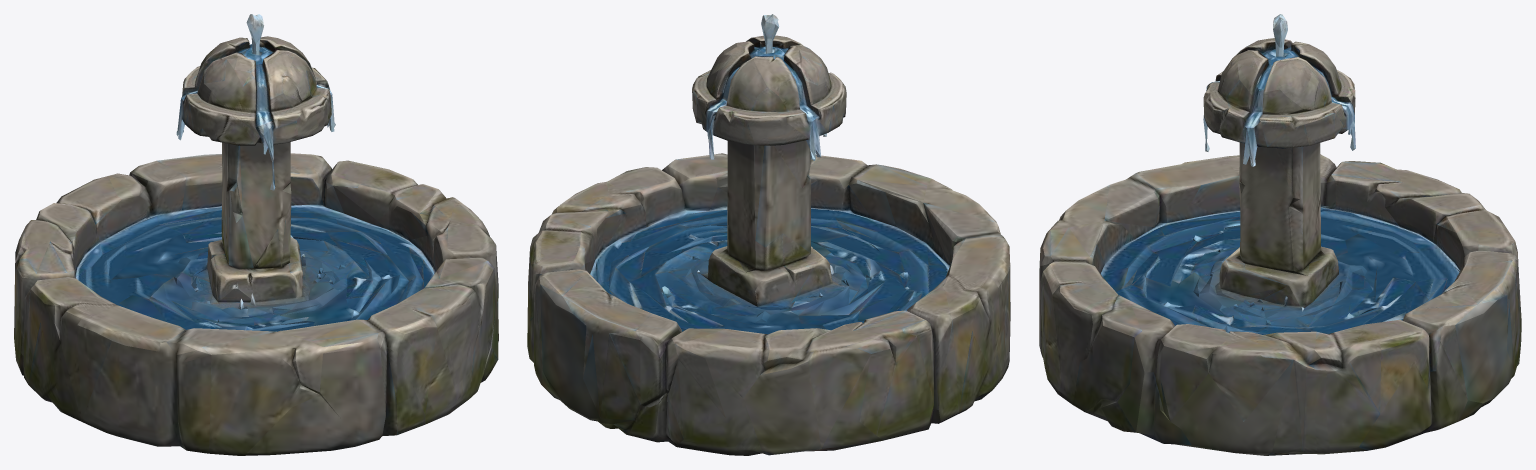
Rendered from fountain_3d.glb.
3 views of the same model, side by side, from view 1: azimuth 30°, elevation 25°; view 2: azimuth 150°, elevation 25°; view 3: azimuth 270°, elevation 25° (orthographic).
Parts seen in each view (by area): view 1: Mesh_0; view 2: Mesh_0; view 3: Mesh_0.
Part boxes in pixels (x1,y1,x2,y2): Mesh_0: [14, 14, 498, 455]; Mesh_0: [527, 14, 1010, 455]; Mesh_0: [1039, 14, 1521, 455].
Bounding box in the file's own units: 1.59 × 1.25 × 1.6.
1 material, 1 textured.
